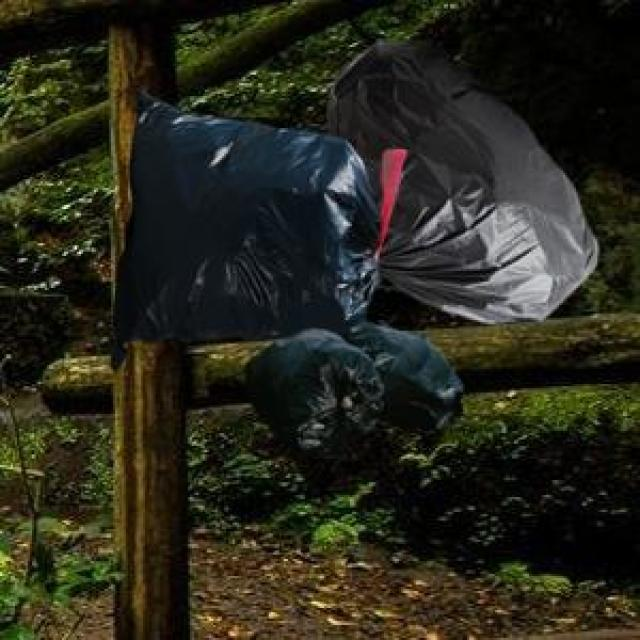miscellaneous trash: (107, 83, 401, 367), (324, 36, 591, 320), (241, 320, 459, 454)
